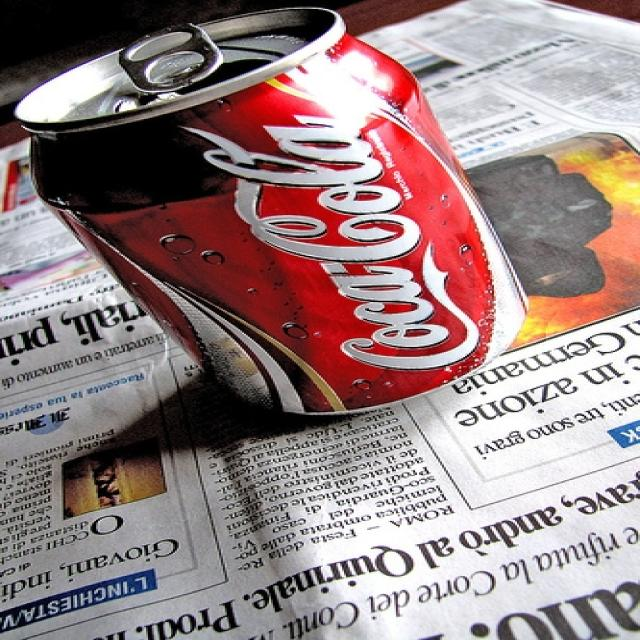cocacola: (168, 105, 489, 381)
